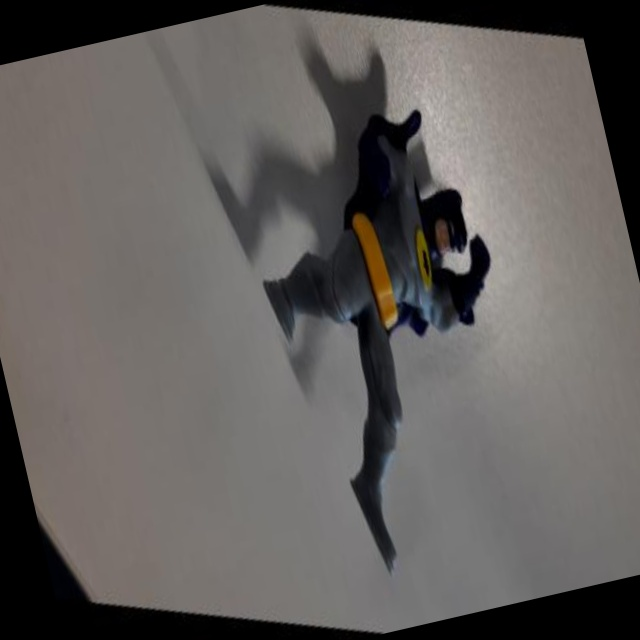Batman: (196, 37, 578, 640)
